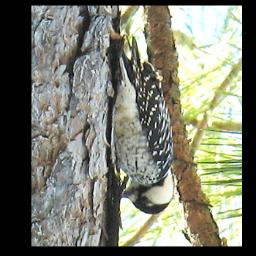Woodpecker: (110, 32, 175, 215)
